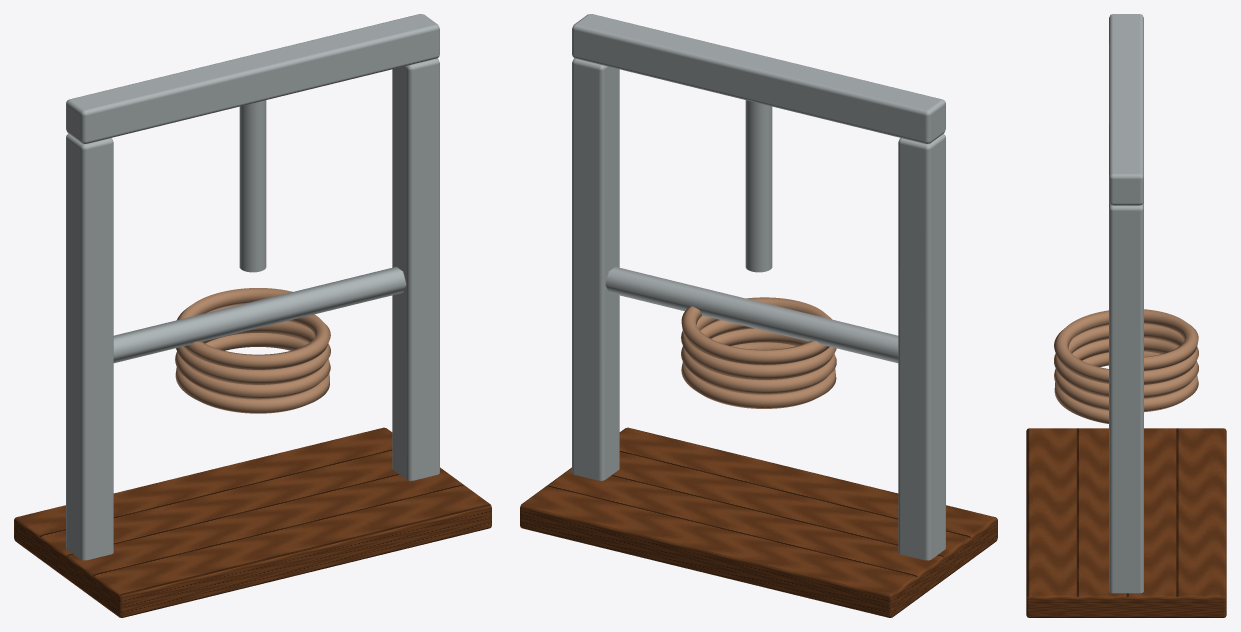
File: salvage-and-repair-workshop-coil-extraction-frame-8b7e4773__25491.glb
3 views of the same model, side by side, from view 1: azimuth 30°, elevation 25°; view 2: azimuth 150°, elevation 25°; view 3: azimuth 270°, elevation 25° (orthographic). The views are drawn at different scales.
Visible parts, largest first — view 1: coil-extraction-frame; view 2: coil-extraction-frame; view 3: coil-extraction-frame.
Part boxes in pixels (left/top/right/bottom): coil-extraction-frame: left=14, top=14, right=491, bottom=617; coil-extraction-frame: left=520, top=14, right=997, bottom=617; coil-extraction-frame: left=1026, top=14, right=1226, bottom=617.
Bounding box in the file's own units: 0.8 × 0.97 × 0.4001.
3 materials, 1 textured.
